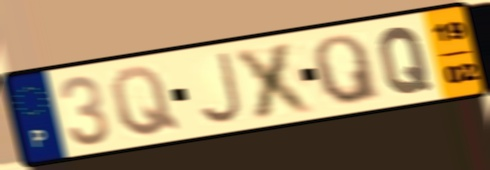3: (58, 73, 111, 147)
J: (195, 49, 245, 127)
Q: (107, 64, 184, 139), (310, 33, 385, 108), (376, 24, 435, 97)
X: (230, 37, 320, 122)
